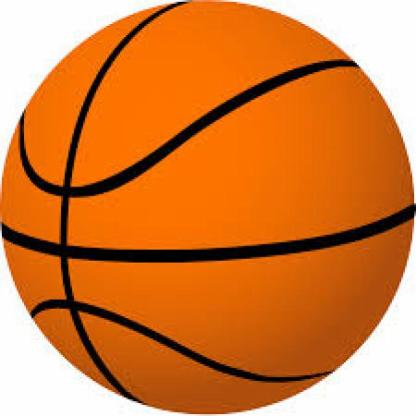basketball: (1, 0, 414, 414)
